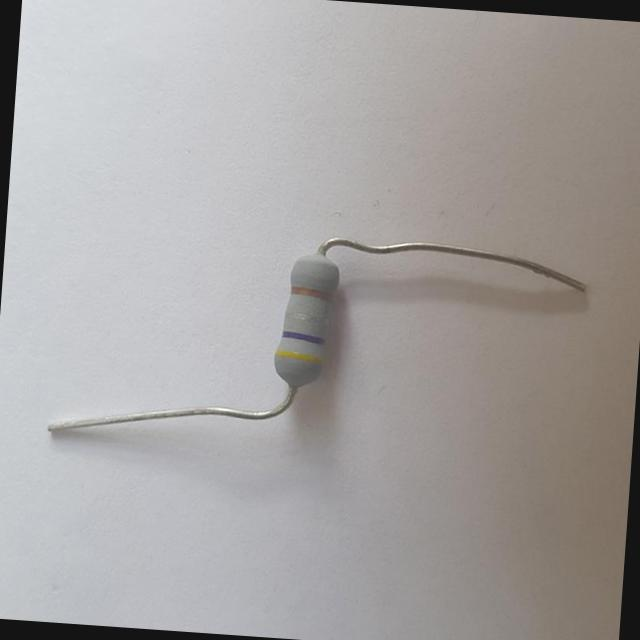Resistor: (275, 252, 338, 385)
gold: (291, 287, 330, 301)
purple: (281, 330, 325, 344)
silver: (284, 312, 328, 325)
yellow: (275, 349, 324, 364)
